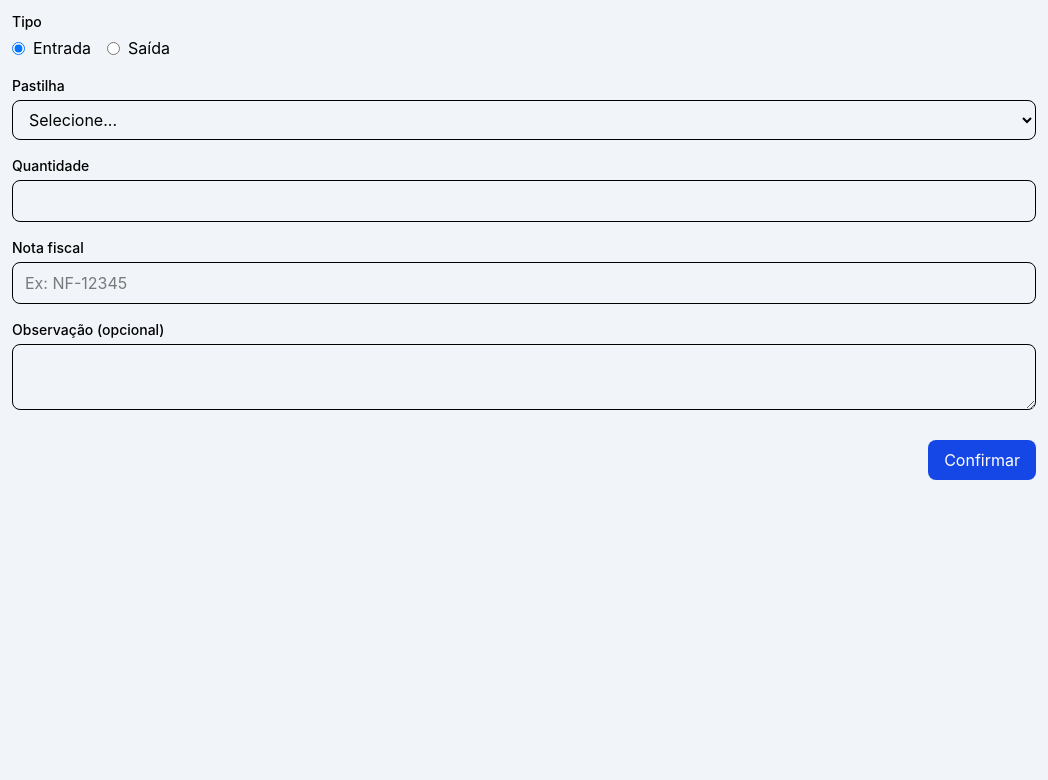
Test: MovimentacaoForm › CT69 - RF04: entrada sem nota fiscal exibe erro e não envia
The width and height of the screenshot is (1048, 780).
Select "PST-001 - CNMG (Estoque: 10)" in the dropdown labelled "Pastilha" at (524, 120), box [12, 100, 1036, 140]
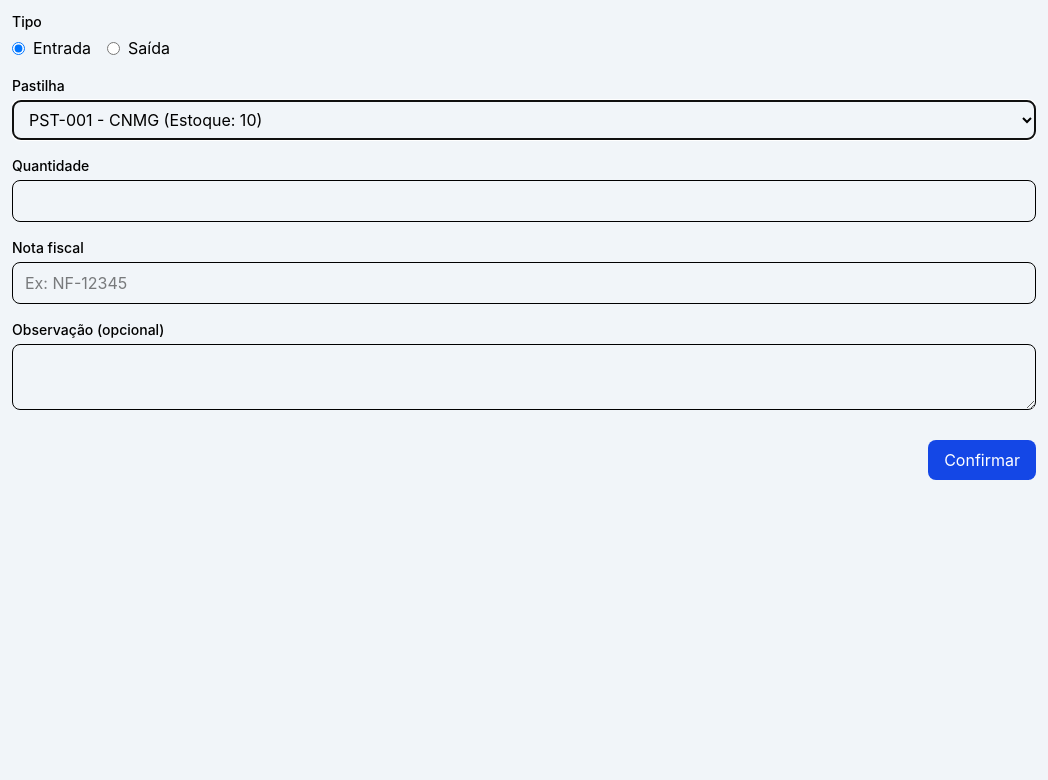
Type "5" into the number field labelled "Quantidade".
click(524, 201); type("5")  # box [12, 180, 1036, 222]
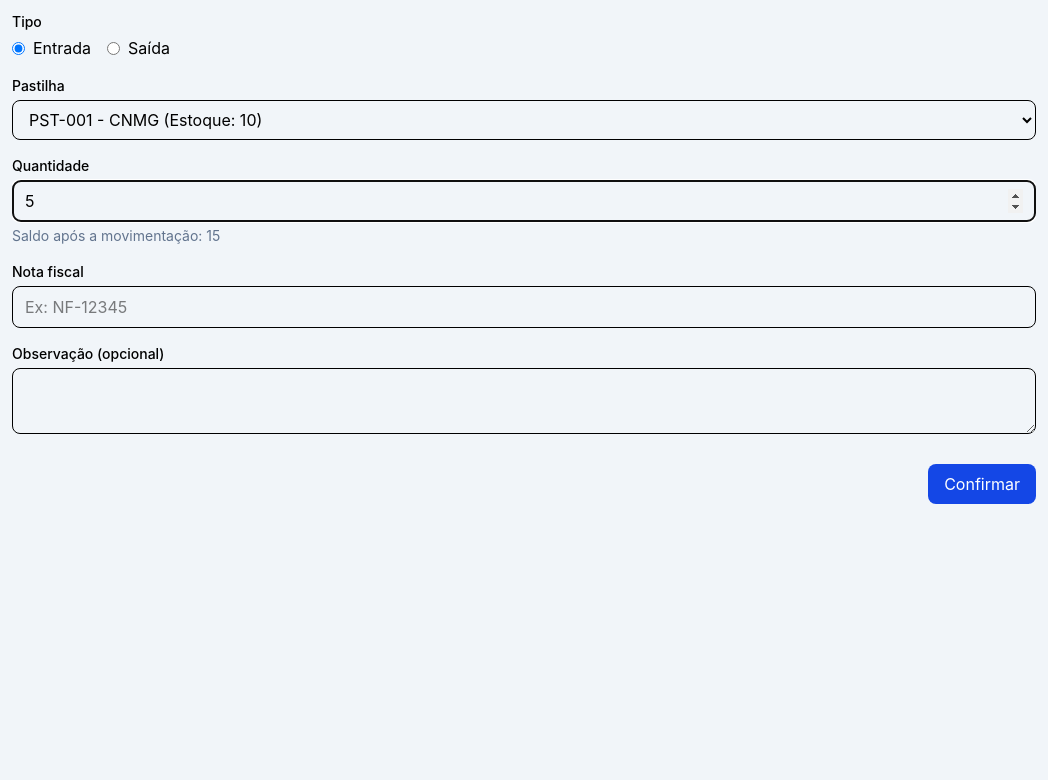
Click the button "Confirmar".
click(982, 484)  # box [928, 464, 1036, 504]
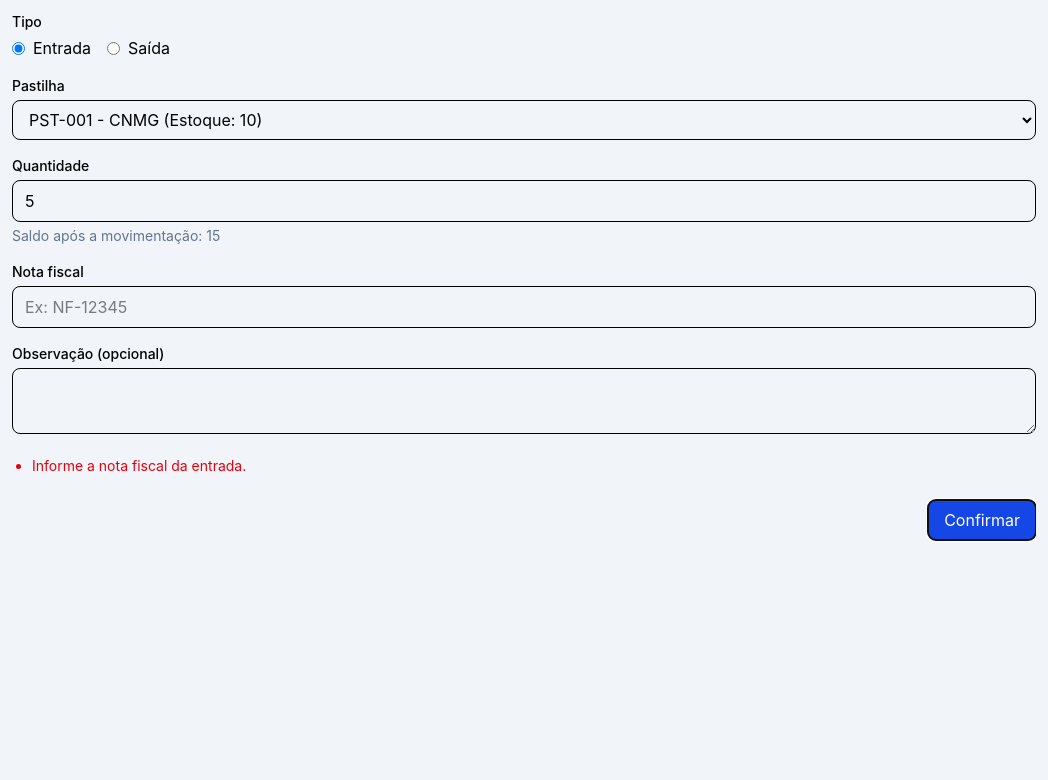
Now the message reads "Informe a nota fiscal da entrada.", box [32, 457, 246, 474]
